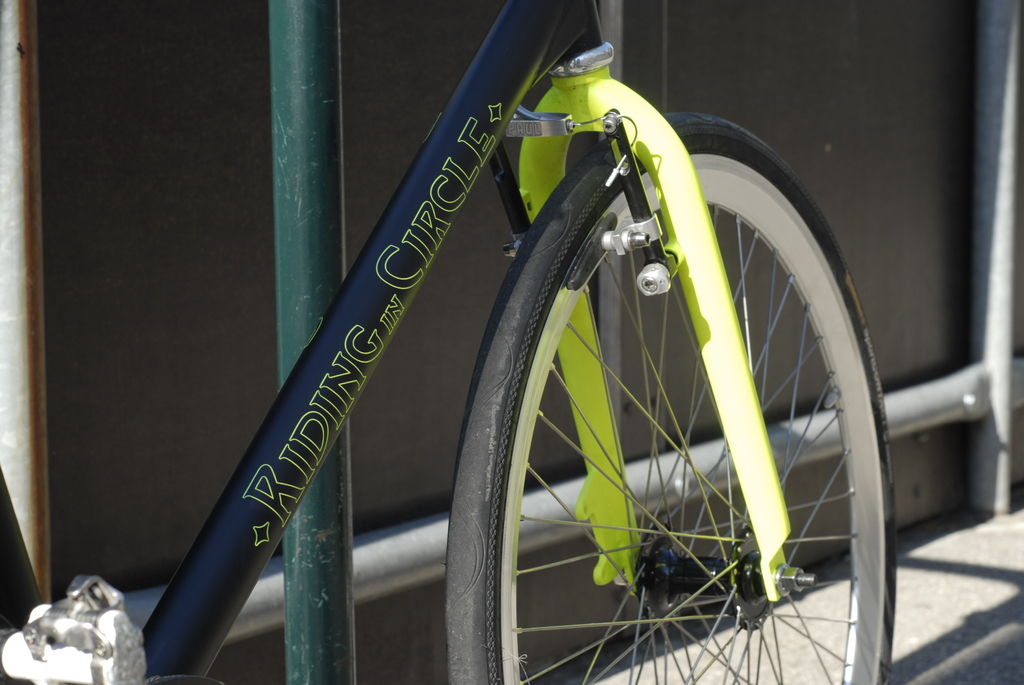Bike: (311, 148, 888, 667)
